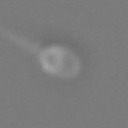normal: (1, 27, 44, 54)
